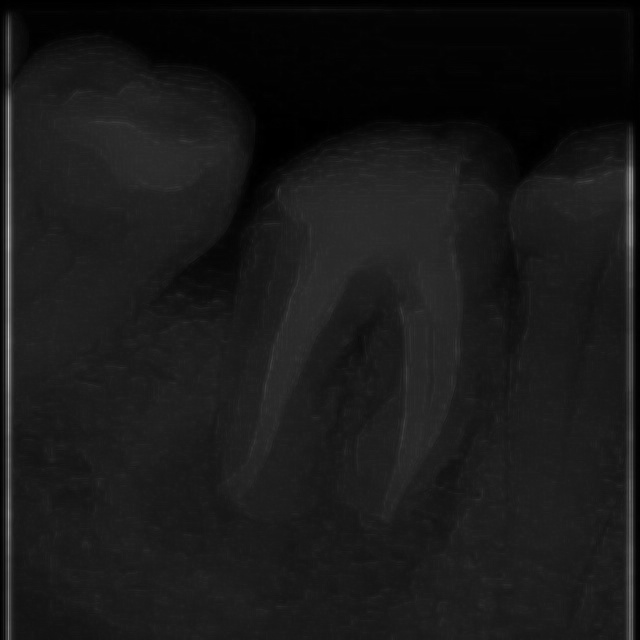Class 0- No endodontic treatment: (220, 106, 520, 546)
